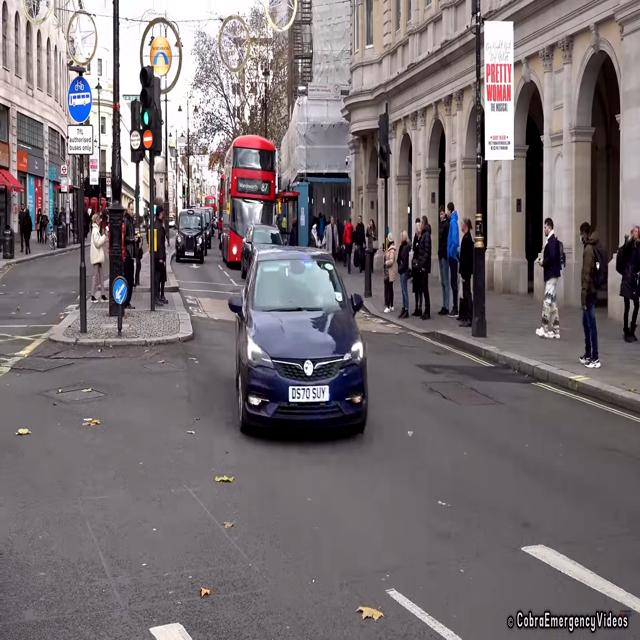emergency-vehicles: (168, 198, 220, 270)
